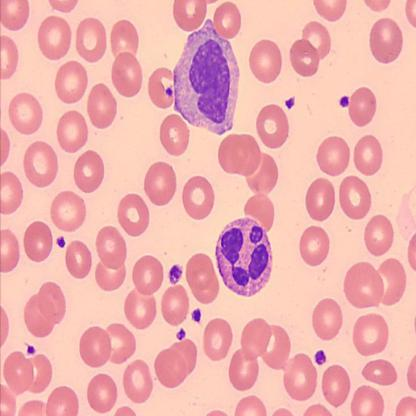Monocyte: (170, 16, 242, 137)
